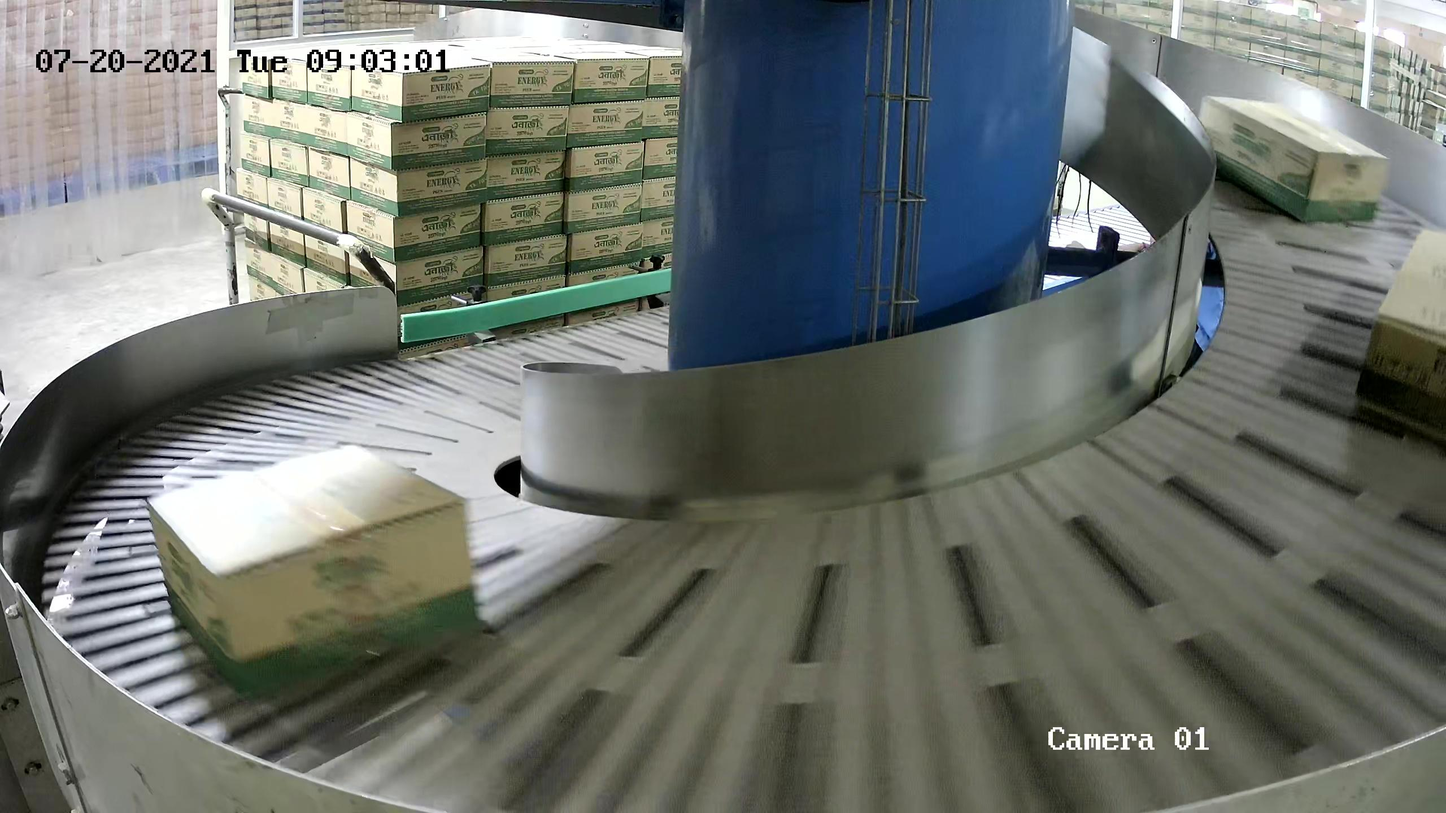Box: (147, 443, 481, 701), (1192, 92, 1392, 225), (1353, 228, 1446, 461)
